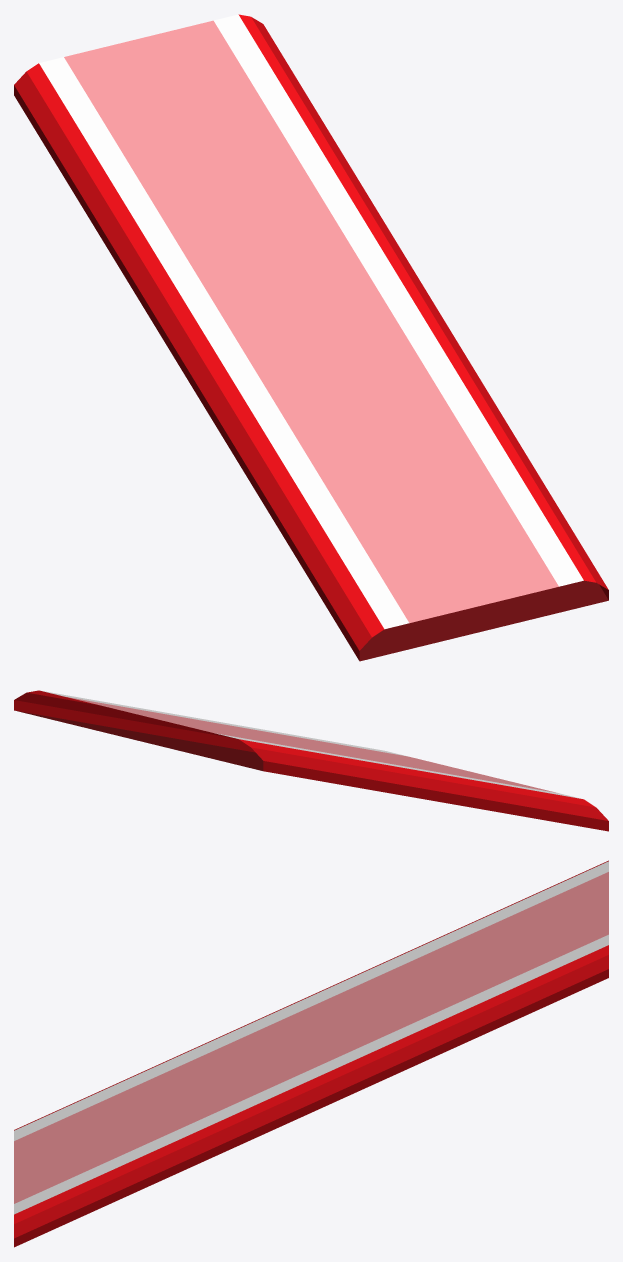
Rendered from incLong4.fbx.
3 renders of one model, top to bottom at view 1: azimuth 30°, elevation 25°; view 2: azimuth 150°, elevation 25°; view 3: azimuth 270°, elevation 25°, orthographic. The views are drawn at different scales.
Parts seen in each view (by area): view 1: InclineLong4; view 2: InclineLong4; view 3: InclineLong4.
Boxes of the visible parts, left/top/right/bottom form: InclineLong4: left=14, top=14, right=608, bottom=661; InclineLong4: left=14, top=690, right=608, bottom=831; InclineLong4: left=14, top=860, right=608, bottom=1247.
Size of the model in its own units: 10 by 13 by 24.
